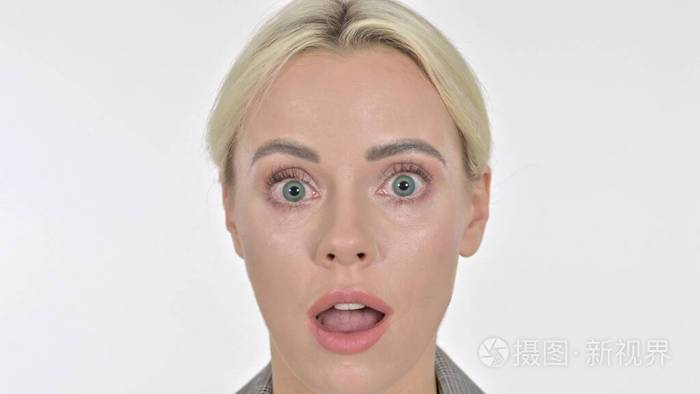no_mask: (235, 55, 468, 383)
